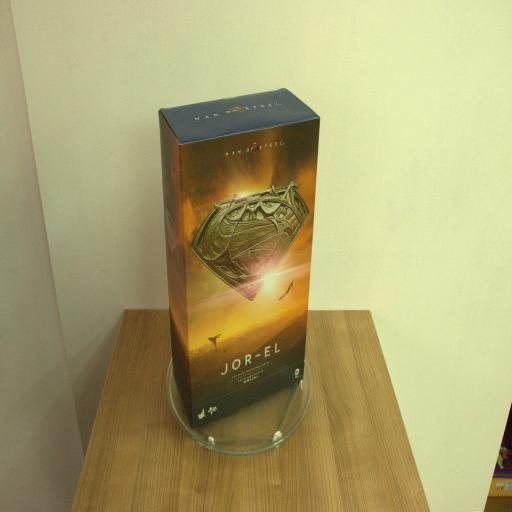superman: (159, 88, 320, 428)
